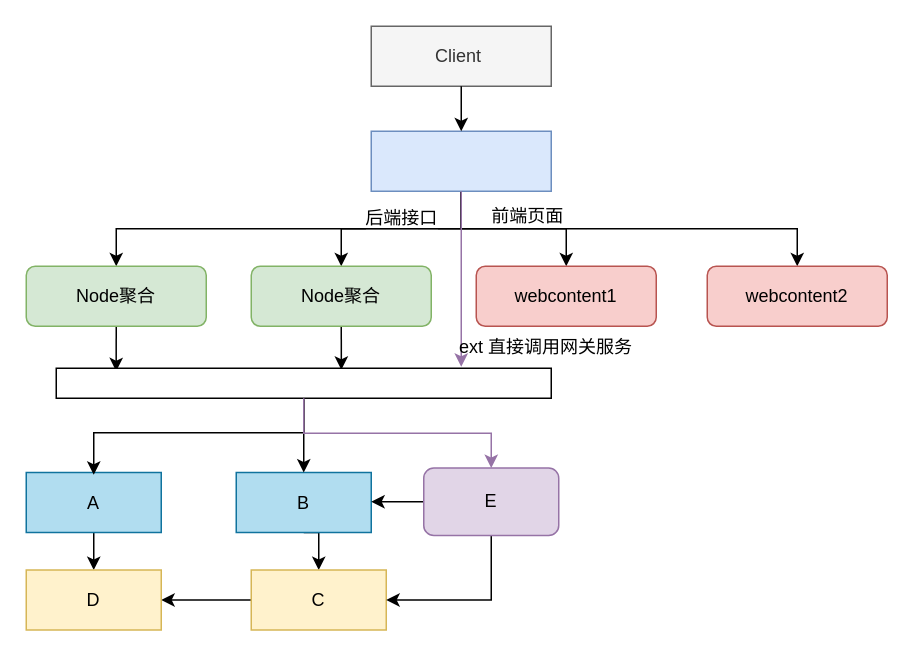
Some shapes in this 914 by 657 pixel diagram are drawn without their labels. The shapes that lost their labels are listed below. From the top down, each one's centre as x and y in pixels, then its label:
[460,160]: Nginx
[303,382]: GateWay
